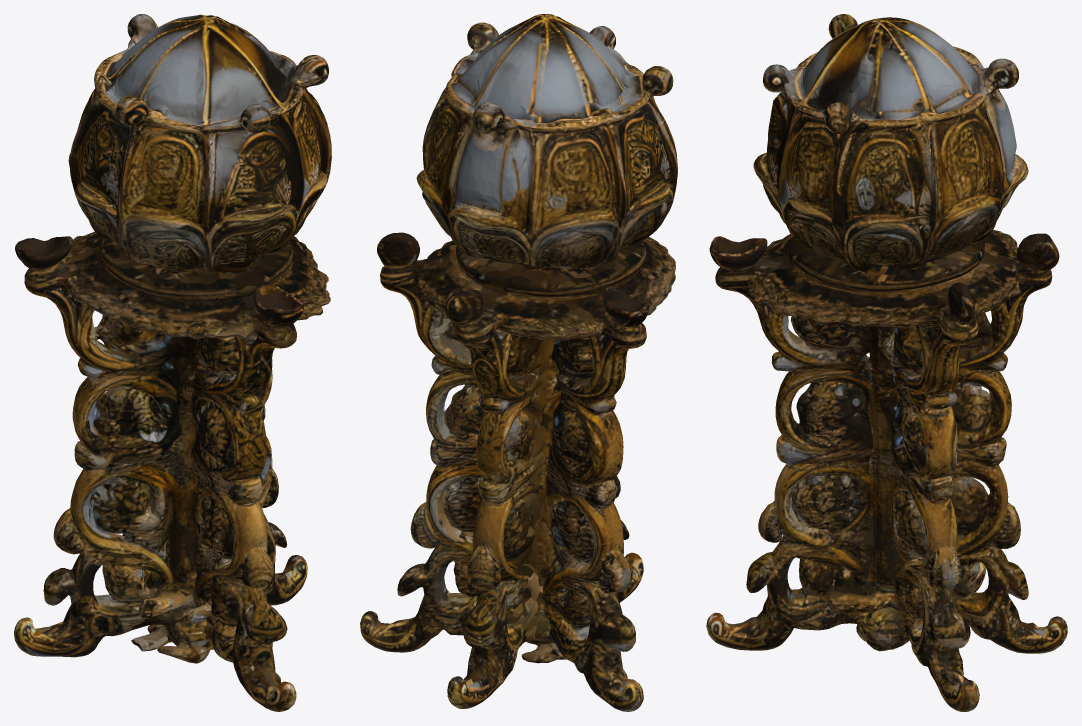
3 renders of one model, left to right at view 1: azimuth 30°, elevation 25°; view 2: azimuth 150°, elevation 25°; view 3: azimuth 270°, elevation 25°, orthographic.
Visible parts, largest first — view 1: textured_mesh; view 2: textured_mesh; view 3: textured_mesh.
Part boxes in pixels (x1,y1,x2,y2): textured_mesh: (14, 14, 331, 711); textured_mesh: (360, 14, 677, 711); textured_mesh: (706, 14, 1067, 711).
Bounding box in the file's own units: 0.9393 × 1.99 × 1.03.
1 material, 1 textured.
